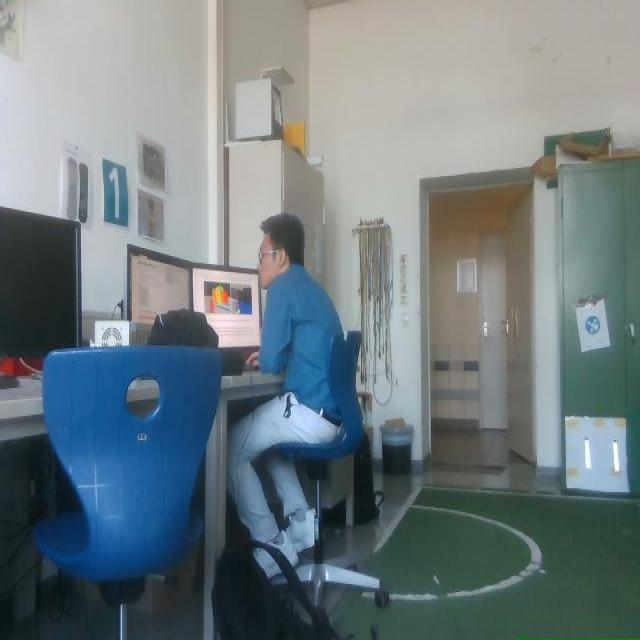humans: (227, 214, 341, 565)
objects: (212, 332, 388, 639), (35, 347, 221, 637), (269, 331, 387, 605), (211, 498, 337, 639), (126, 244, 261, 375), (211, 542, 339, 639), (191, 264, 261, 374), (353, 438, 383, 525), (148, 310, 218, 347), (353, 438, 383, 523), (225, 492, 250, 549), (221, 350, 244, 375)
